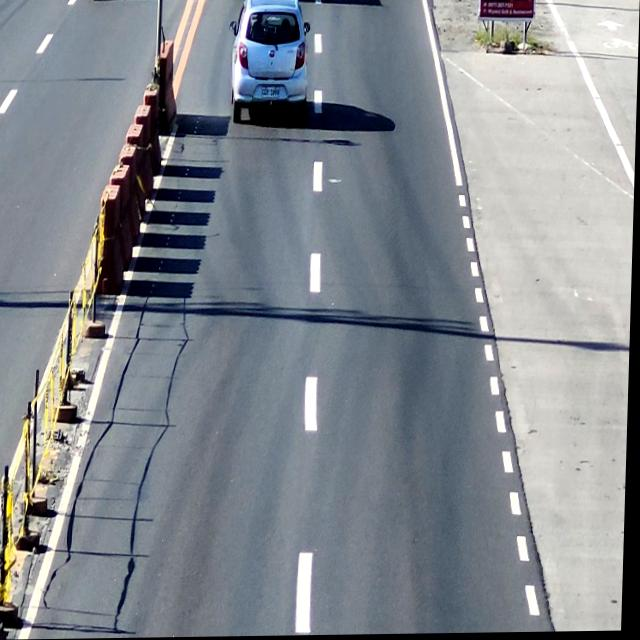Car: (225, 0, 312, 129)
License-Plate: (256, 81, 284, 99)
